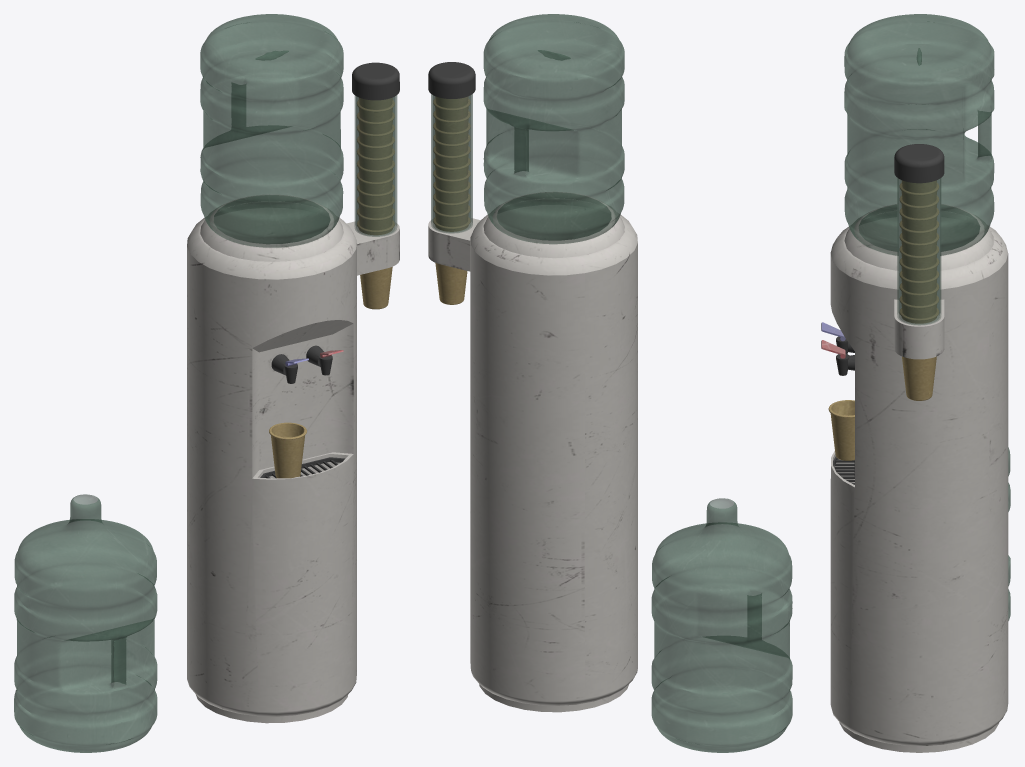
Rendered from water_dispenser.glb.
The picture shows the model from 3 angles, left to right: view 1: azimuth 30°, elevation 25°; view 2: azimuth 150°, elevation 25°; view 3: azimuth 270°, elevation 25°; orthographic projection. The views are drawn at different scales.
Visible parts, largest first — view 1: Object_2, Object_3; view 2: Object_2, Object_3; view 3: Object_2.
Part boxes in pixels (bbox=[...]): Object_2: bbox=[187, 14, 399, 723]; Object_3: bbox=[14, 494, 157, 752]; Object_2: bbox=[428, 14, 637, 712]; Object_3: bbox=[651, 498, 792, 752]; Object_2: bbox=[821, 14, 1008, 752].
Size of the model in its own units: 31.13 by 53.13 by 13.44.
1 material, 1 textured.
